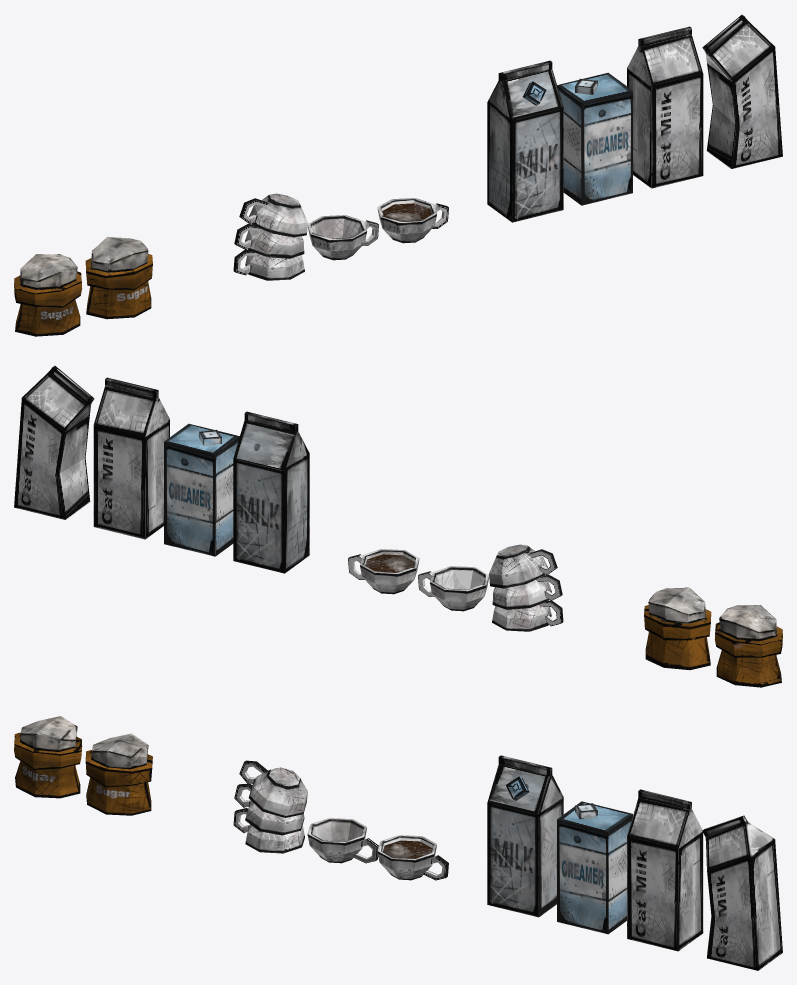
The model's file is Mugs Milk Sugar Light.glb.
3 renders of one model, top to bottom at view 1: azimuth 30°, elevation 25°; view 2: azimuth 150°, elevation 25°; view 3: azimuth 330°, elevation 25°, orthographic.
Parts seen in each view (by area): view 1: Milk Var 1, Milk Var 3, Milk Var 3.001, Milk Var 2, Mug Empty.001, Sugar Var 2, Sugar Var 1, Mug Empty.005, Mug Empty; view 2: Milk Var 1, Milk Var 3, Milk Var 3.001, Milk Var 2, Mug Empty.001, Sugar Var 2, Sugar Var 1, Mug Empty, Mug Empty.005; view 3: Milk Var 3, Milk Var 1, Milk Var 3.001, Milk Var 2, Mug Empty.001, Sugar Var 2, Sugar Var 1, Mug Empty.005, Mug Empty.
Boxes of the visible parts, x1=… form: Milk Var 1: x1=487, y1=60, x2=563, y2=222; Milk Var 3: x1=627, y1=26, x2=703, y2=188; Milk Var 3.001: x1=702, y1=14, x2=782, y2=168; Milk Var 2: x1=557, y1=72, x2=632, y2=205; Mug Empty.001: x1=233, y1=193, x2=307, y2=280; Sugar Var 2: x1=14, y1=254, x2=82, y2=336; Sugar Var 1: x1=85, y1=236, x2=152, y2=319; Mug Empty.005: x1=377, y1=198, x2=448, y2=243; Mug Empty: x1=307, y1=215, x2=378, y2=260; Milk Var 1: x1=233, y1=411, x2=309, y2=573; Milk Var 3: x1=93, y1=377, x2=169, y2=539; Milk Var 3.001: x1=14, y1=365, x2=94, y2=519; Milk Var 2: x1=164, y1=423, x2=239, y2=556; Mug Empty.001: x1=489, y1=544, x2=563, y2=631; Sugar Var 2: x1=714, y1=605, x2=782, y2=687; Sugar Var 1: x1=644, y1=587, x2=711, y2=670; Mug Empty: x1=418, y1=566, x2=489, y2=611; Mug Empty.005: x1=348, y1=549, x2=419, y2=594; Milk Var 3: x1=627, y1=789, x2=703, y2=951; Milk Var 1: x1=487, y1=755, x2=563, y2=917; Milk Var 3.001: x1=702, y1=815, x2=782, y2=970; Milk Var 2: x1=557, y1=801, x2=632, y2=934; Mug Empty.001: x1=233, y1=760, x2=307, y2=853; Sugar Var 2: x1=14, y1=716, x2=82, y2=798; Sugar Var 1: x1=85, y1=733, x2=152, y2=815; Mug Empty.005: x1=377, y1=835, x2=448, y2=880; Mug Empty: x1=307, y1=818, x2=378, y2=863.
Bounding box in the file's own units: 2.12 × 0.3768 × 0.1503.
Materials: 1 (1 with a texture image).
